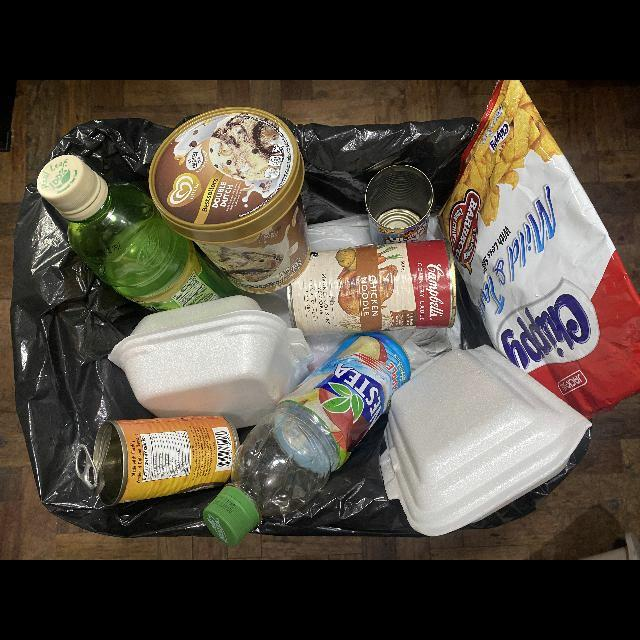aluminum: (285, 240, 456, 337), (72, 414, 239, 508), (365, 163, 435, 242)
food_wrapper: (437, 80, 640, 419)
plastic_bottle: (201, 332, 410, 550), (36, 157, 237, 313)
plastic_container: (147, 105, 310, 293)
